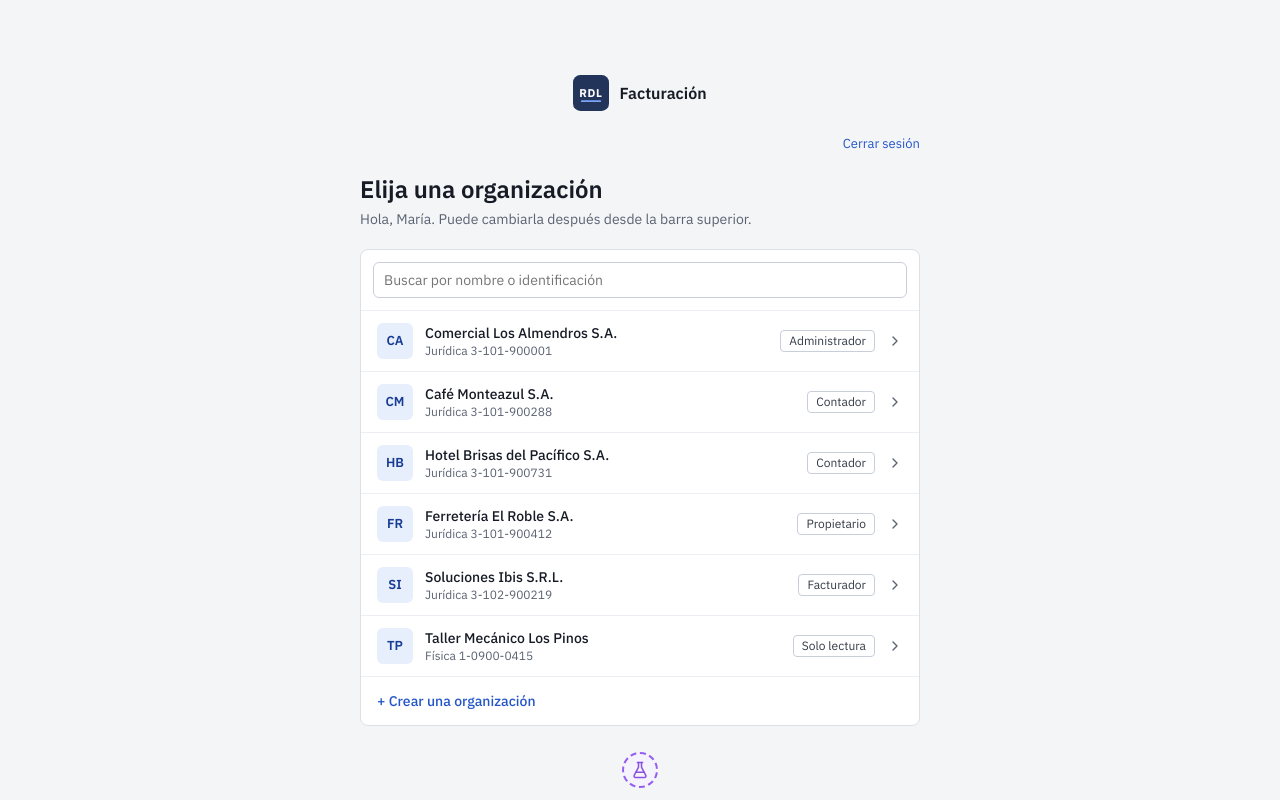
Test case: pantalla 2 · selector de organización › lista, busca y elige con el cambio seguro
Expected: the heading "Elija una organización" is shown, [360,172,603,204]
Expected: the text "Hola, María. Puede cambiarla después desde la barra superior." is shown, [360,210,752,228]
In the field labelled "Buscar por nombre o identificación": (640,280) [373,262,907,298], type "zzz"
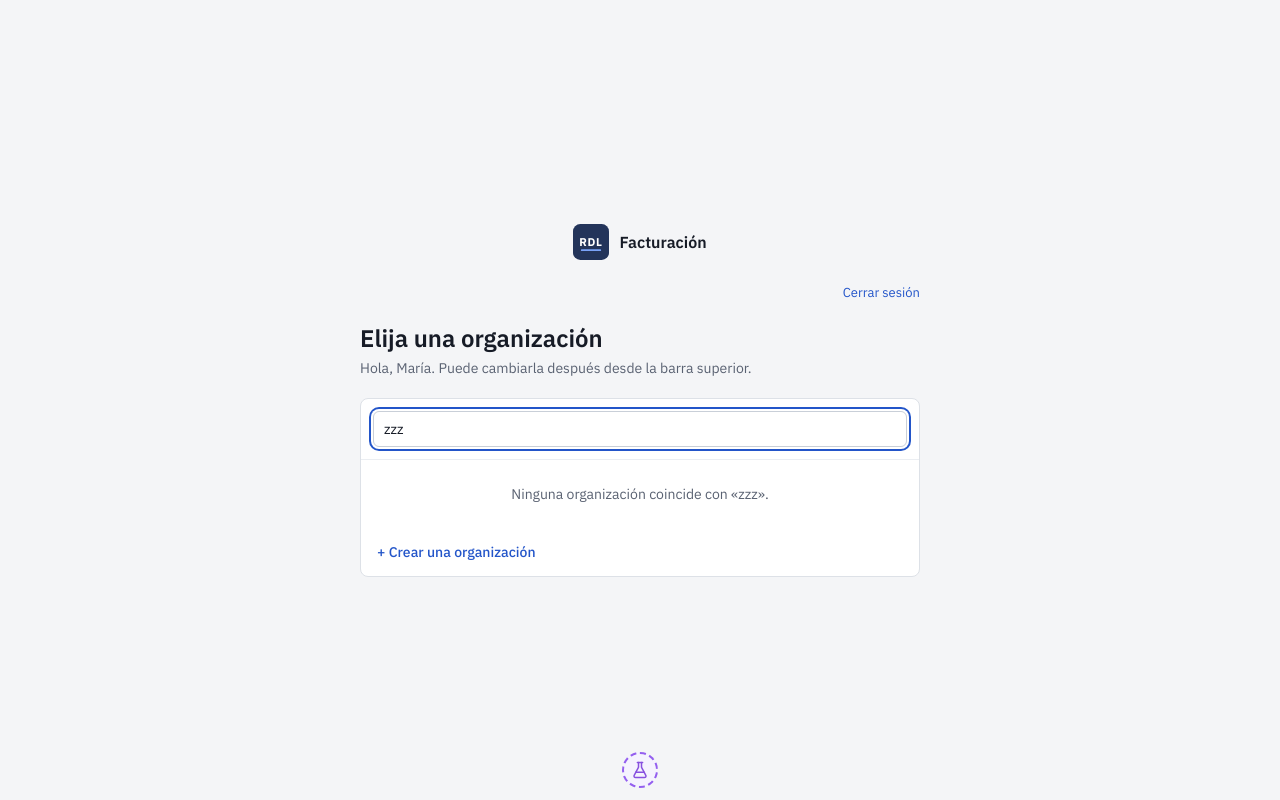
Result: the text "Ninguna organización coincide con «zzz»." is shown at [511,484,769,502]
Clear the field named "Buscar por nombre o identificación": (640,428) [373,410,907,446]
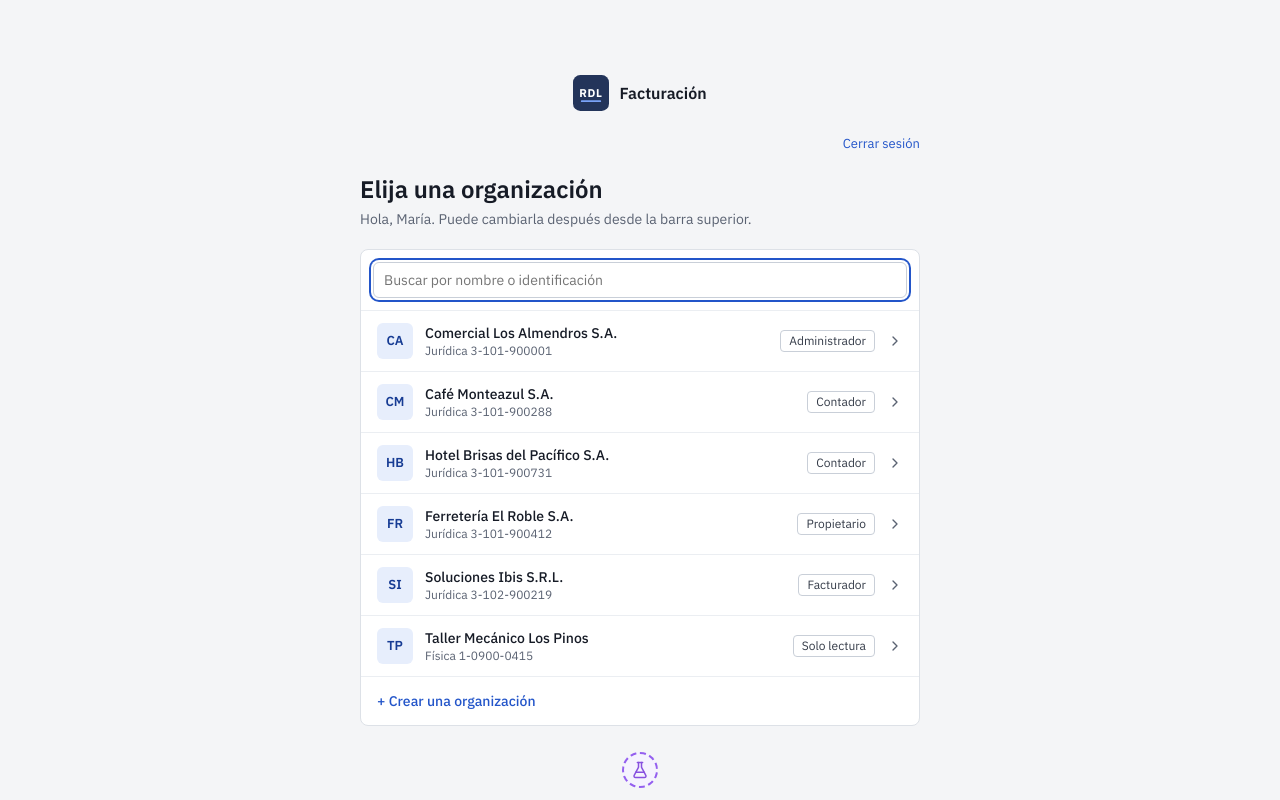
In the field labelled "Buscar por nombre o identificación": (640,280) [373,262,907,298], type "monteazul"
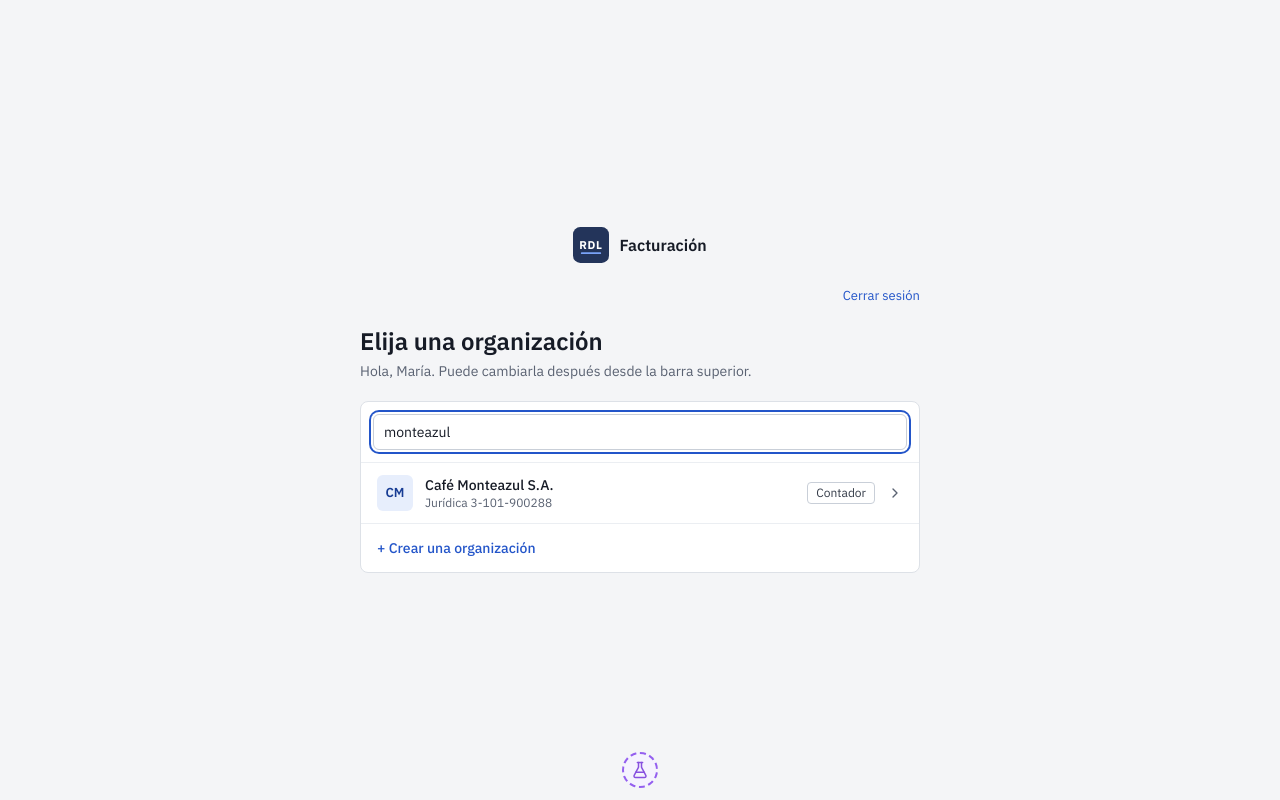
Click the button "CM Café Monteazul S.A. Jurídica 3-101-900288 Contador": (395,493) [361,463,919,524]
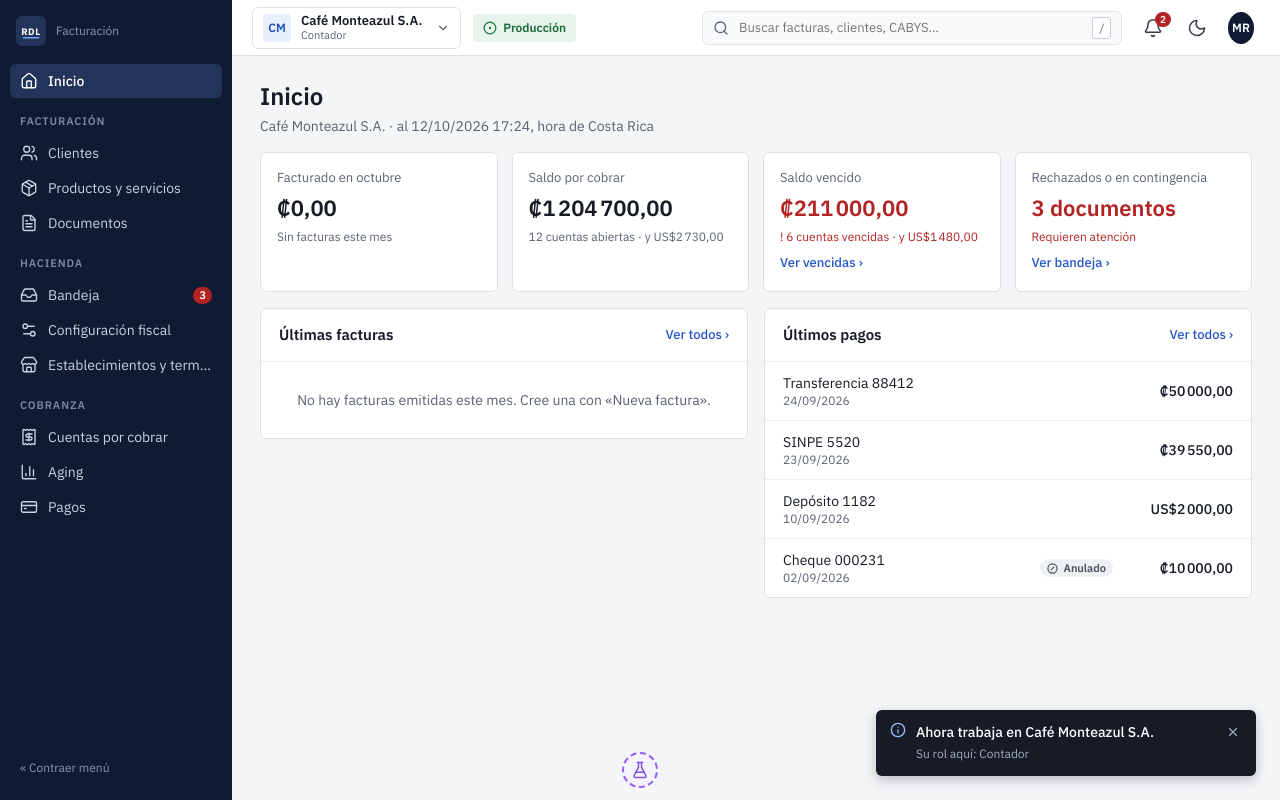
Result: the text "Ahora trabaja en Café Monteazul S.A." is shown at [916,723,1154,741]
